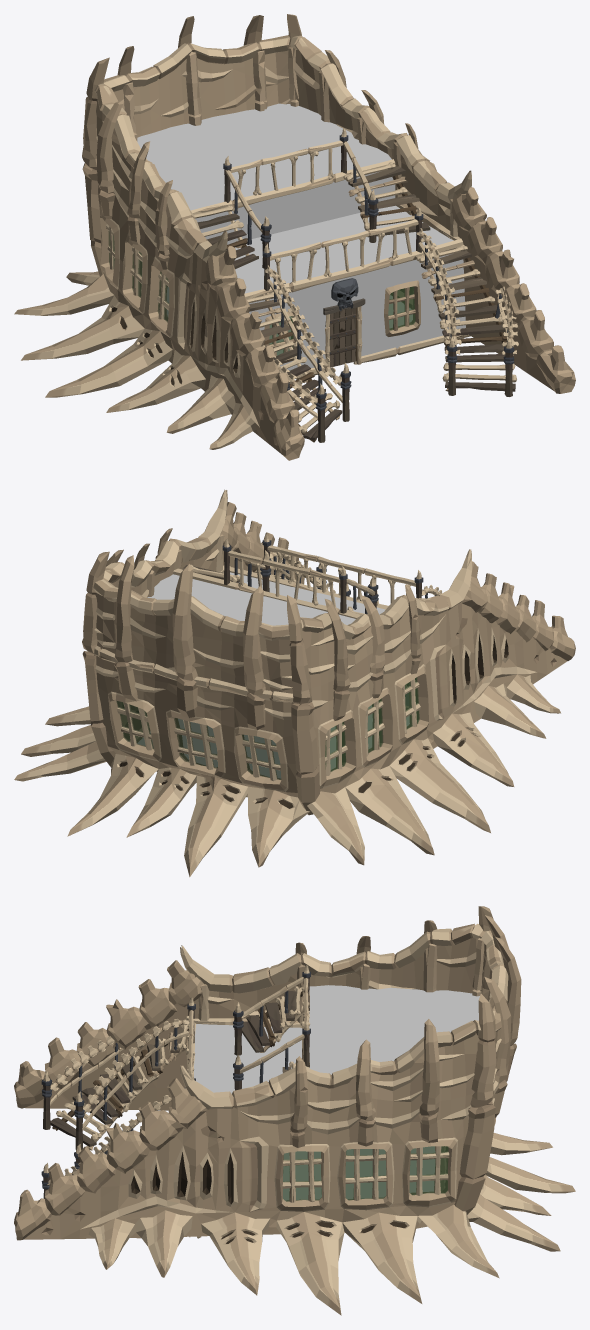
File: SM_Veh_Ship_L_Back_03.fbx
3 views of the same model, one above another, from view 1: azimuth 30°, elevation 25°; view 2: azimuth 150°, elevation 25°; view 3: azimuth 270°, elevation 25° (orthographic).
Visible parts, largest first — view 1: SM_Veh_Ship_L_Back_03, SM_Veh_Ship_L_Back_03_Door, SM_Veh_Ship_L_Back_03_Glass; view 2: SM_Veh_Ship_L_Back_03, SM_Veh_Ship_L_Back_03_Glass; view 3: SM_Veh_Ship_L_Back_03, SM_Veh_Ship_L_Back_03_Glass.
Boxes of the visible parts, box(x1,y1,x2,y2) form: SM_Veh_Ship_L_Back_03: box(14, 14, 575, 460); SM_Veh_Ship_L_Back_03_Door: box(329, 308, 356, 367); SM_Veh_Ship_L_Back_03_Glass: box(108, 231, 415, 355); SM_Veh_Ship_L_Back_03: box(14, 489, 575, 877); SM_Veh_Ship_L_Back_03_Glass: box(116, 677, 419, 779); SM_Veh_Ship_L_Back_03: box(14, 906, 575, 1315); SM_Veh_Ship_L_Back_03_Glass: box(283, 1146, 448, 1201).
Size of the model in its own units: 1623 by 955 by 1767.
